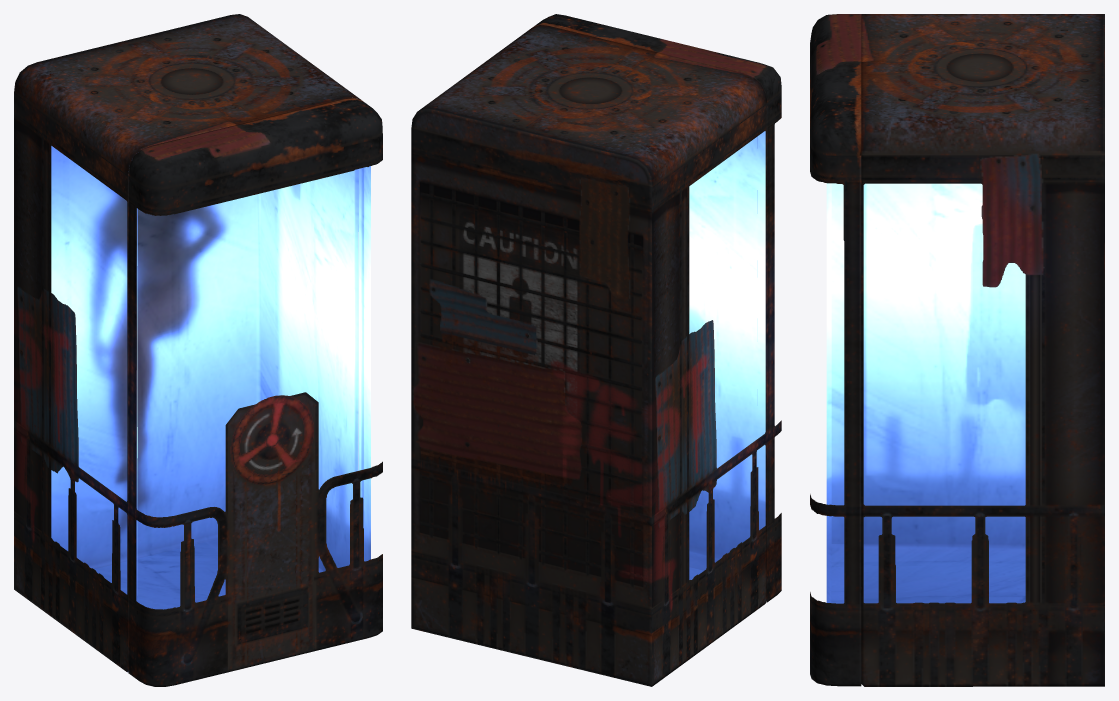
Rendered from capsula.glb.
The picture shows the model from 3 angles, left to right: view 1: azimuth 30°, elevation 25°; view 2: azimuth 150°, elevation 25°; view 3: azimuth 270°, elevation 25°; orthographic projection. The views are drawn at different scales.
Parts seen in each view (by area): view 1: Object_2; view 2: Object_2; view 3: Object_2.
Part boxes in pixels (left/top/right/bottom): Object_2: left=14, top=14, right=382, bottom=686; Object_2: left=411, top=14, right=781, bottom=686; Object_2: left=810, top=14, right=1104, bottom=686.
Bounding box in the file's own units: 0.96 × 2 × 0.96.
1 material, 1 textured.
